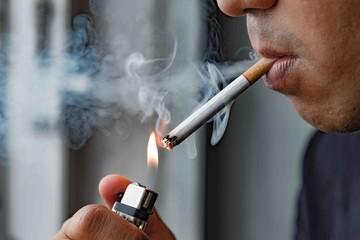cigarette: (157, 55, 286, 153)
